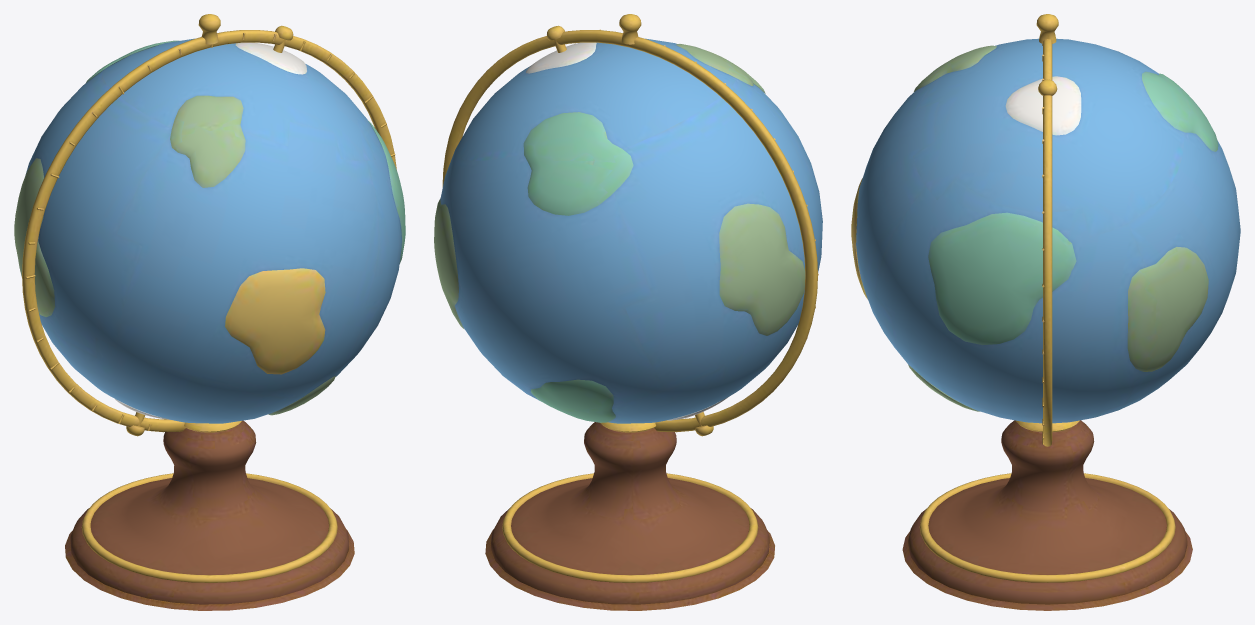
Rendered from globe.glb.
3 renders of one model, left to right at view 1: azimuth 30°, elevation 25°; view 2: azimuth 150°, elevation 25°; view 3: azimuth 270°, elevation 25°, orthographic.
Parts seen in each view (by area): view 1: globe_sphere, globe_body; view 2: globe_sphere, globe_body; view 3: globe_sphere, globe_body.
Part boxes in pixels (x1,y1,x2,y2): globe_sphere: [14, 38, 405, 423]; globe_body: [22, 14, 396, 610]; globe_sphere: [434, 38, 822, 423]; globe_body: [442, 14, 818, 610]; globe_sphere: [851, 38, 1240, 423]; globe_body: [902, 14, 1192, 610].
Bounding box in the file's own units: 0.2905 × 0.3998 × 0.2623.
Materials: 2 (2 with a texture image).
